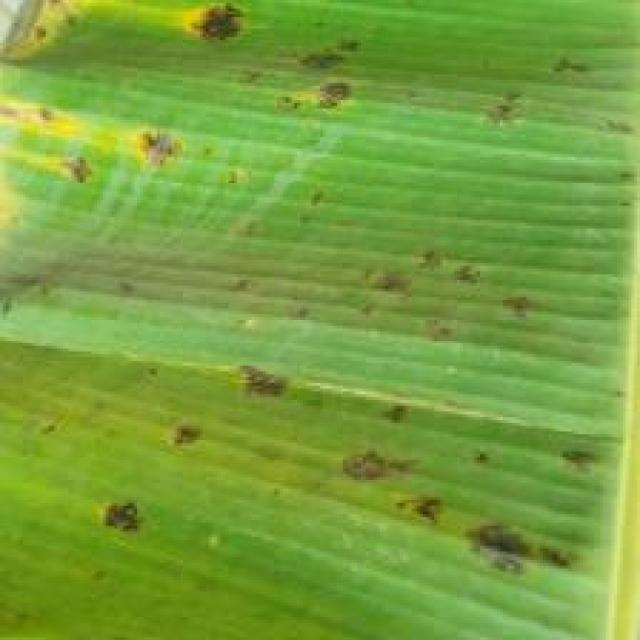Downey_mildrew: (90, 362, 640, 633), (0, 0, 640, 215), (214, 250, 572, 390), (0, 303, 137, 640)
